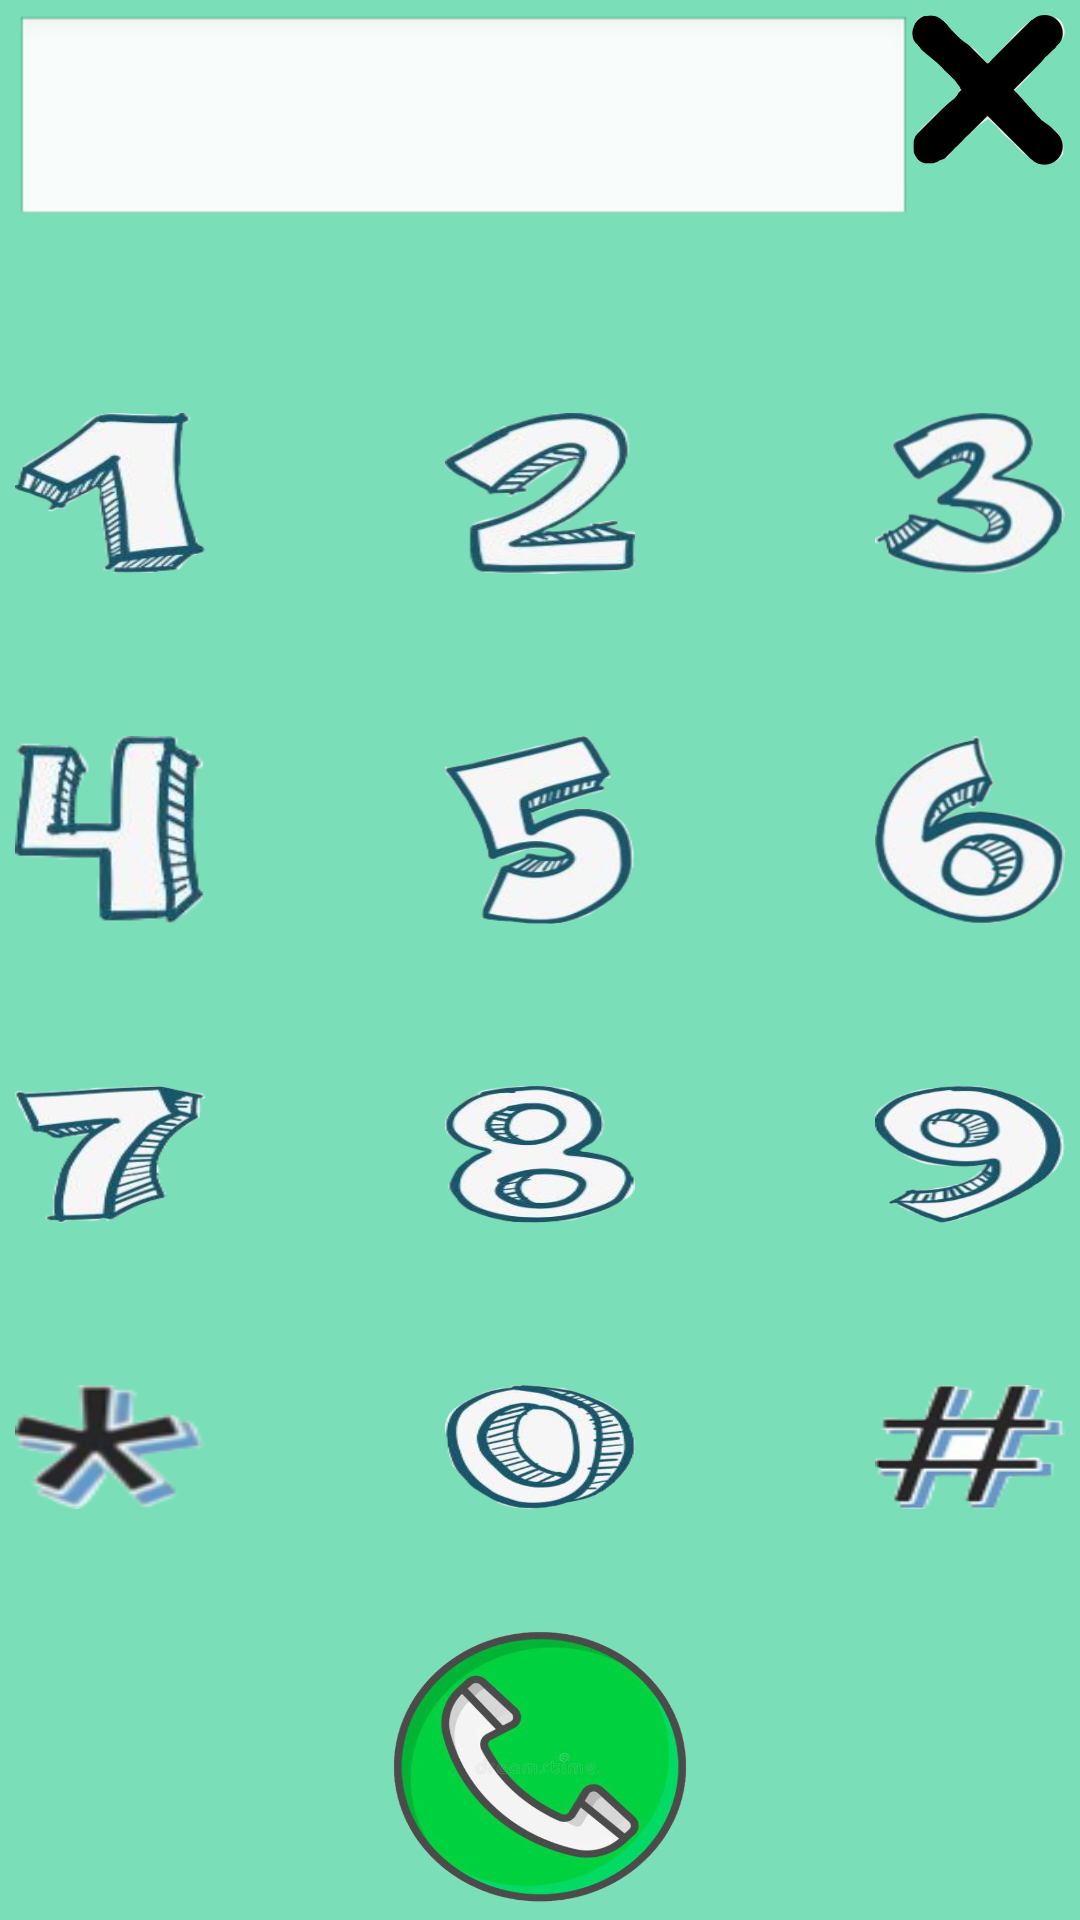

Point at icon controls on the screen. Image size 1080x1920, points as [x,y].
answer: [540,1767]
jinhao ff: [970,1447]
number ff delete: [988,90]
